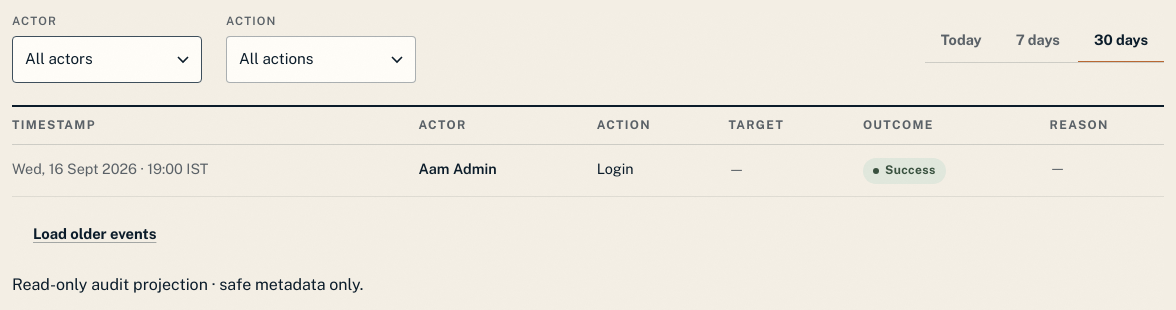
AuditExplorer pagination › keeps the loaded history when loading older events fails
Click the button "Load older events": (95, 233) x1=12 y1=212 x2=177 y2=254
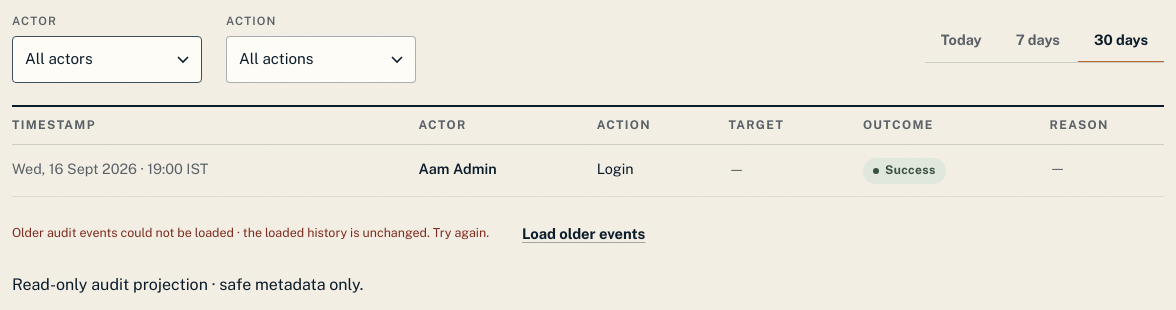
Now the text "Older audit events could not be loaded · the loaded history is unchanged. Try again." is shown, box x1=12 y1=225 x2=489 y2=240
